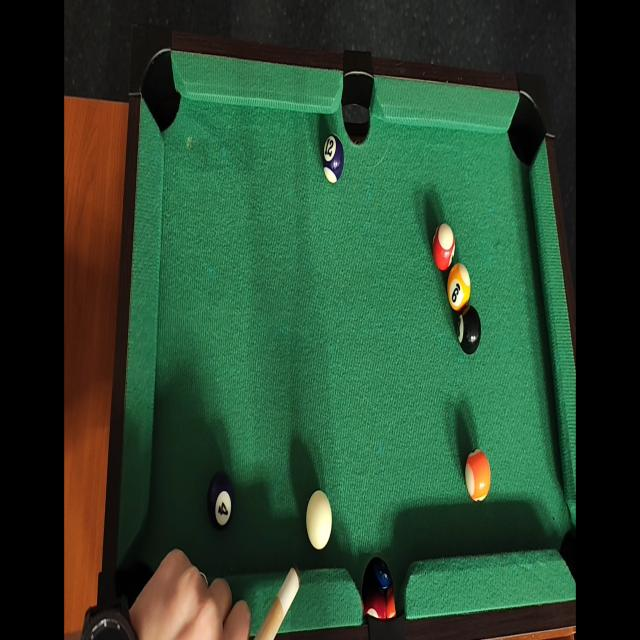cue ball: (304, 487, 332, 552)
other: (206, 466, 236, 532), (463, 444, 491, 503), (318, 131, 344, 187), (430, 219, 456, 275), (458, 299, 482, 359), (446, 259, 471, 313)
